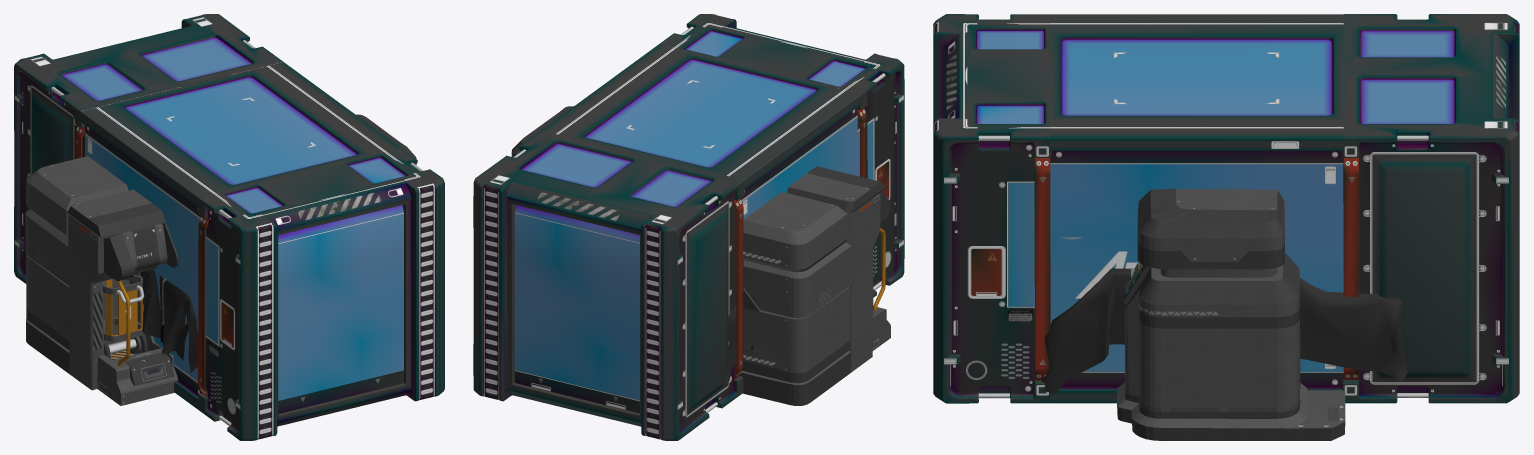
The model's file is lager.glb.
The picture shows the model from 3 angles, left to right: view 1: azimuth 30°, elevation 25°; view 2: azimuth 150°, elevation 25°; view 3: azimuth 270°, elevation 25°; orthographic projection. The views are drawn at different scales.
Visible parts, largest first — view 1: prop_lager_storage_container_1_025x05x025_a, prop_lager_cell_power_1_rack_a, prop_lager_crate_stack_1_03x025x0125_a; view 2: prop_lager_storage_container_1_025x05x025_a, prop_lager_cell_power_1_rack_a, prop_lager_crate_stack_1_03x025x0125_a; view 3: prop_lager_storage_container_1_025x05x025_a, prop_lager_cell_power_1_rack_a, prop_lager_crate_stack_1_03x025x0125_a.
Part boxes in pixels (box(x1,y1,x2,y2)): prop_lager_storage_container_1_025x05x025_a: box(14, 14, 444, 440); prop_lager_cell_power_1_rack_a: box(25, 114, 416, 405); prop_lager_crate_stack_1_03x025x0125_a: box(140, 269, 197, 374); prop_lager_storage_container_1_025x05x025_a: box(473, 14, 904, 440); prop_lager_cell_power_1_rack_a: box(511, 106, 890, 405); prop_lager_crate_stack_1_03x025x0125_a: box(719, 302, 753, 389); prop_lager_storage_container_1_025x05x025_a: box(933, 14, 1519, 403); prop_lager_cell_power_1_rack_a: box(1117, 188, 1345, 440); prop_lager_crate_stack_1_03x025x0125_a: box(1042, 268, 1407, 393).
Size of the model in its own units: 4 by 2.5 by 4.99.
Materials: 88 (68 with a texture image).
